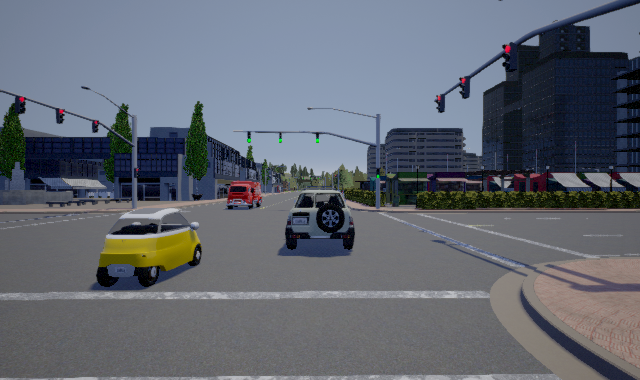traffic_light: (502, 42, 517, 72), (459, 76, 470, 99), (15, 96, 26, 114), (436, 94, 445, 113), (56, 108, 65, 124), (92, 120, 99, 133), (134, 168, 140, 178), (247, 131, 251, 143), (376, 168, 380, 178), (316, 132, 319, 143), (279, 132, 282, 143)
vehicle: (96, 208, 202, 287), (285, 186, 355, 250), (226, 181, 262, 209)
